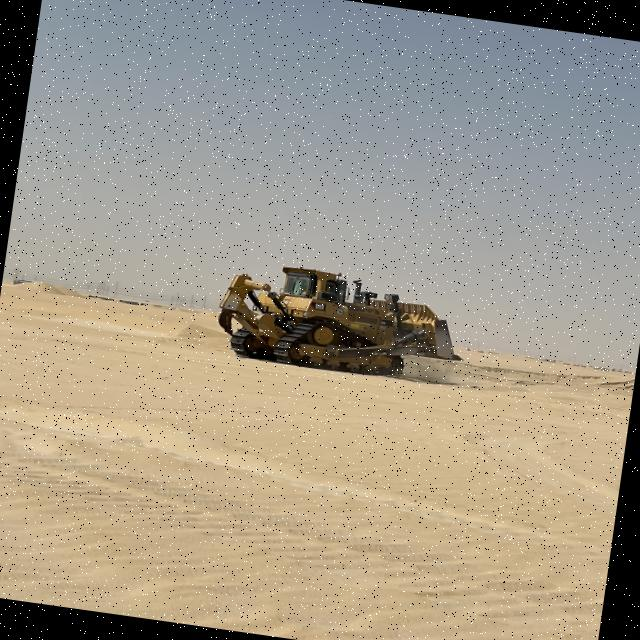Bulldozer: (206, 246, 476, 400)
